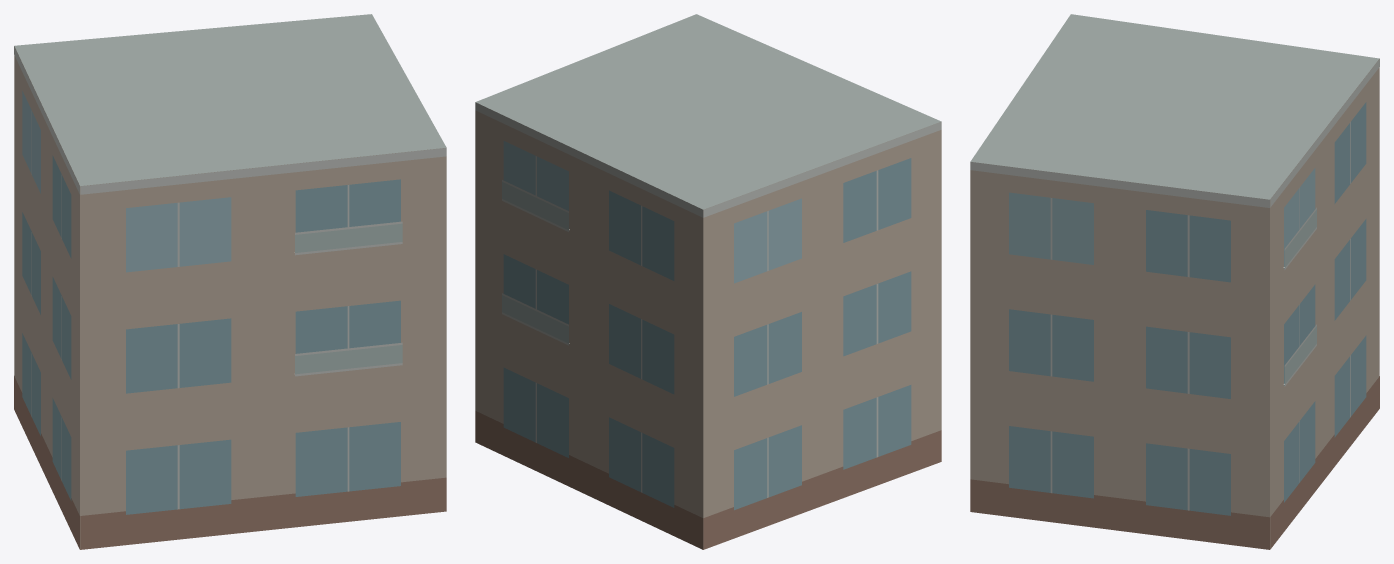
The model's file is survey-upis-33025148.glb.
The picture shows the model from 3 angles, left to right: view 1: azimuth 30°, elevation 25°; view 2: azimuth 150°, elevation 25°; view 3: azimuth 270°, elevation 25°; orthographic projection. The views are drawn at different scales.
Parts seen in each view (by area): view 1: survey-upis-33025148.tmp; view 2: survey-upis-33025148.tmp; view 3: survey-upis-33025148.tmp.
Part boxes in pixels (x1,y1,x2,y2): survey-upis-33025148.tmp: (14, 14, 446, 549); survey-upis-33025148.tmp: (475, 14, 941, 549); survey-upis-33025148.tmp: (970, 14, 1379, 549).
Bounding box in the file's own units: 11.61 × 10.2 × 10.82.
